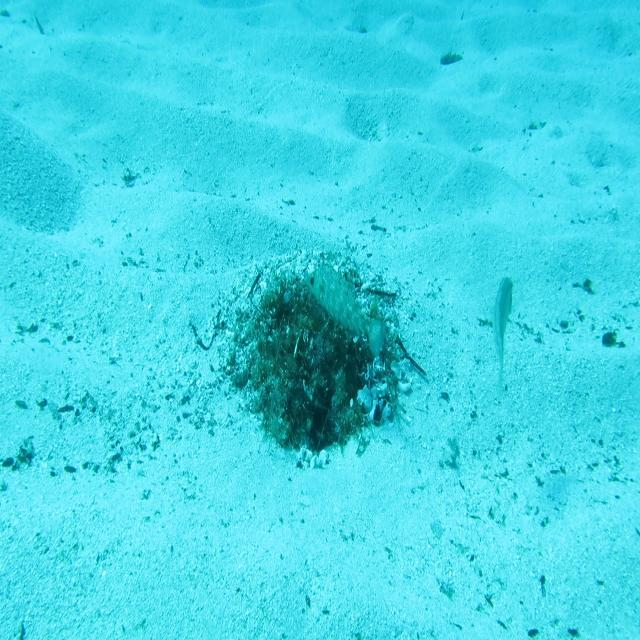INSF: (303, 260, 388, 358)
core_nest: (288, 298, 338, 337)
female: (488, 274, 516, 408)
nest: (209, 242, 418, 481)
vegetation: (436, 50, 467, 68)
